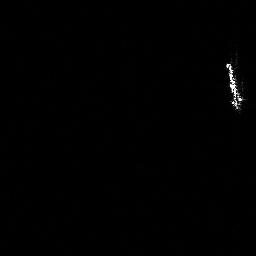ship: (221, 60, 247, 113)
